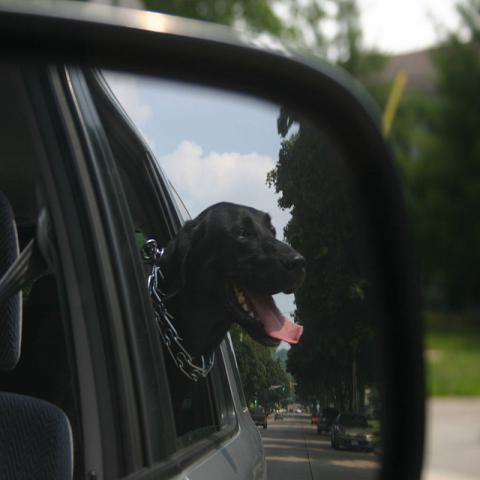car: (0, 1, 426, 476)
truck: (249, 408, 269, 428)
